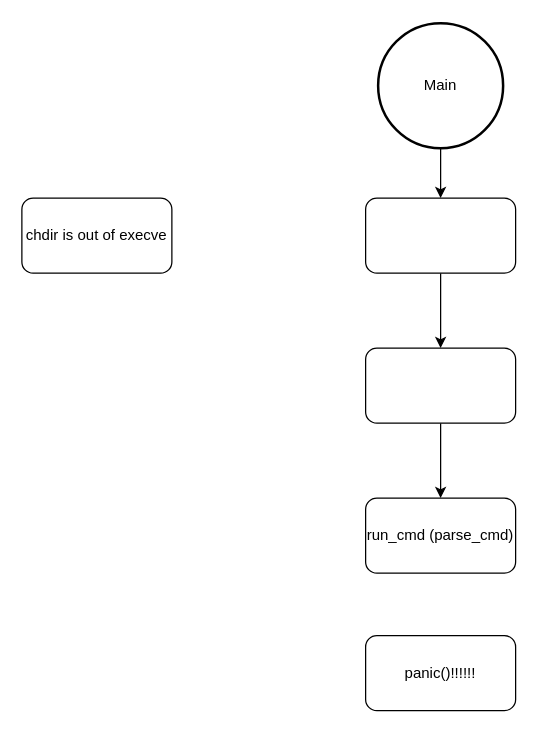
Some shapes in this 538 by 733 pixel diagram are drawn without their labels. Each missing label, with the centre of its shape:
fork1(): point 440,385
get_cmd (print "$" and read stdin): point 440,235
